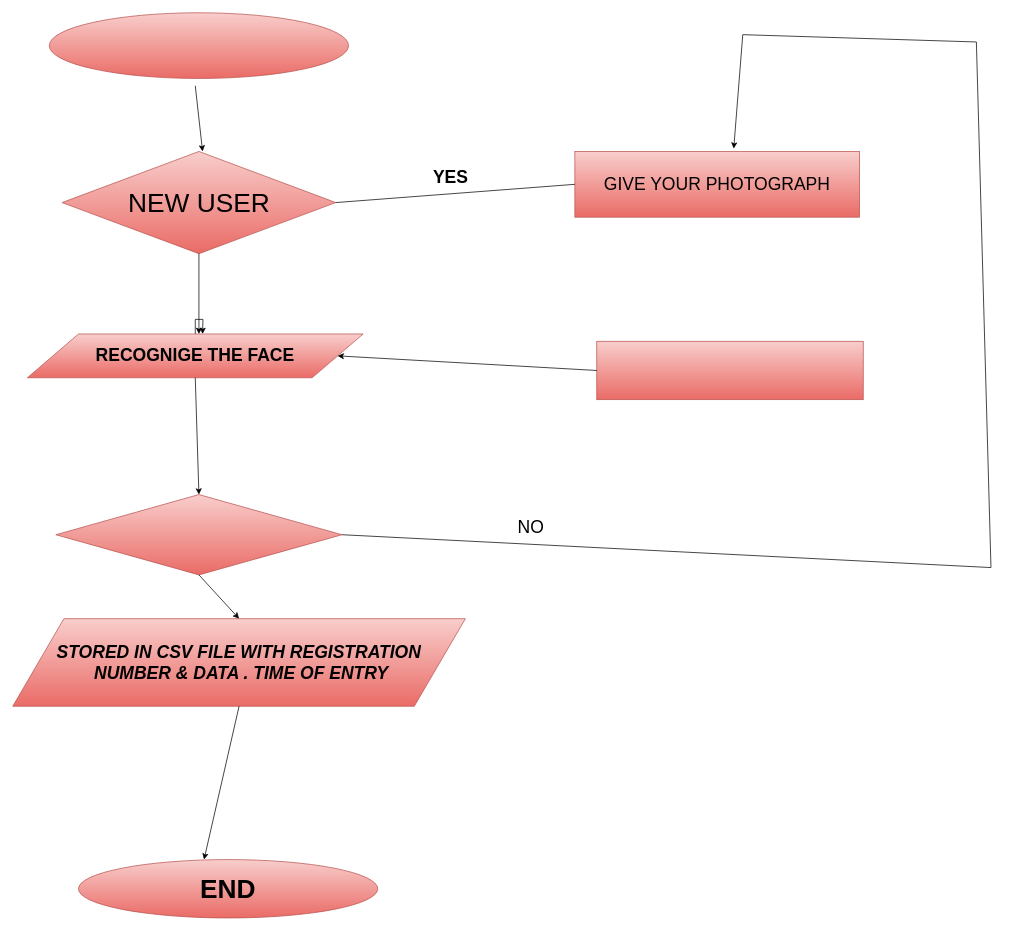
Image size: 1010x931. Some labels were removed from this diagram. Here are the shapes that lost their labels. From the top down, the centre of each, then its label:
At point (199, 45): "START".
At point (729, 370): "STORED THE FACE DATA IN THE FOLDER ON YOUR NAME".
At point (198, 534): "FACE RECOGNIGED".
